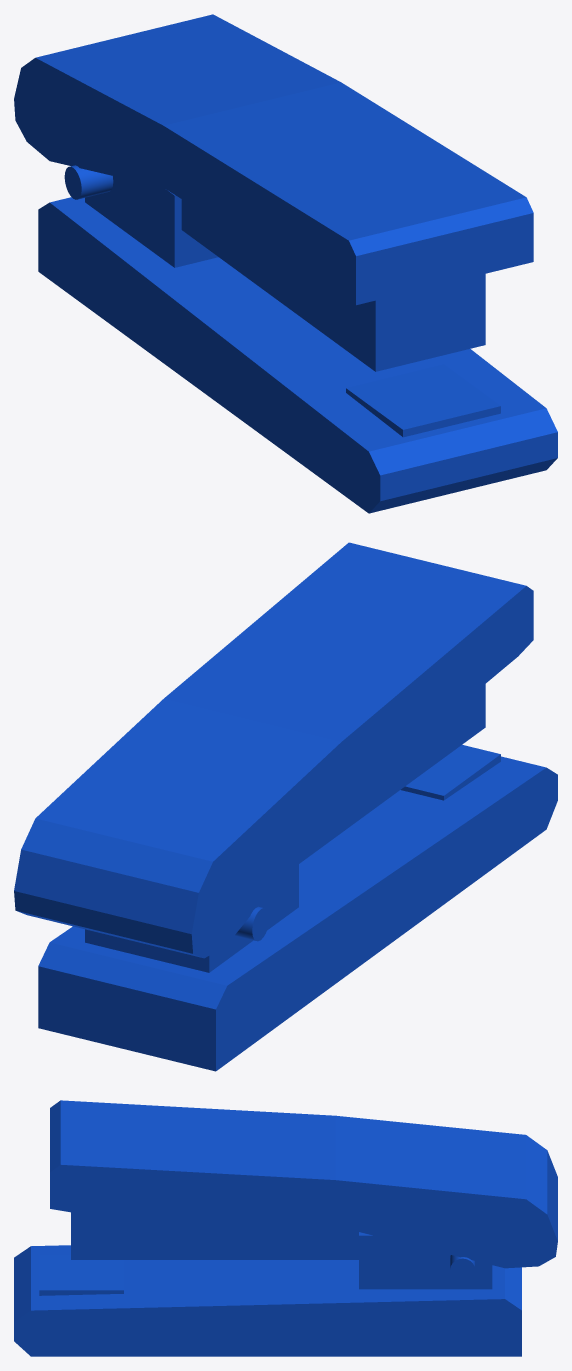
The model's file is zimba.dae.
The picture shows the model from 3 angles, top to bottom: view 1: azimuth 30°, elevation 25°; view 2: azimuth 150°, elevation 25°; view 3: azimuth 270°, elevation 25°; orthographic projection. The views are drawn at different scales.
Visible parts, largest first — view 1: ust_kol_0, taban_0, sarjor_0, ors_0, mentese_0, mentese_1; view 2: ust_kol_0, taban_0, sarjor_0, mentese_0, ors_0, mentese_1; view 3: ust_kol_0, taban_0, sarjor_0, mentese_0, ors_0, mentese_1.
Part boxes in pixels (x1,y1,x2,y2): ust_kol_0: [14, 14, 533, 305]; taban_0: [38, 197, 557, 513]; sarjor_0: [181, 199, 485, 371]; ors_0: [346, 364, 500, 437]; mentese_0: [85, 176, 218, 267]; mentese_1: [64, 165, 113, 199]; ust_kol_0: [14, 542, 533, 958]; taban_0: [38, 756, 557, 1071]; sarjor_0: [299, 684, 485, 863]; mentese_0: [85, 856, 298, 972]; ors_0: [401, 744, 500, 800]; mentese_1: [235, 906, 269, 941]; ust_kol_0: [50, 1100, 557, 1268]; taban_0: [14, 1245, 521, 1356]; sarjor_0: [71, 1212, 358, 1259]; mentese_0: [359, 1232, 492, 1289]; ors_0: [39, 1255, 123, 1295]; mentese_1: [450, 1255, 475, 1281].
Bounding box in the file's own units: 0.038 × 0.05 × 0.1285.
